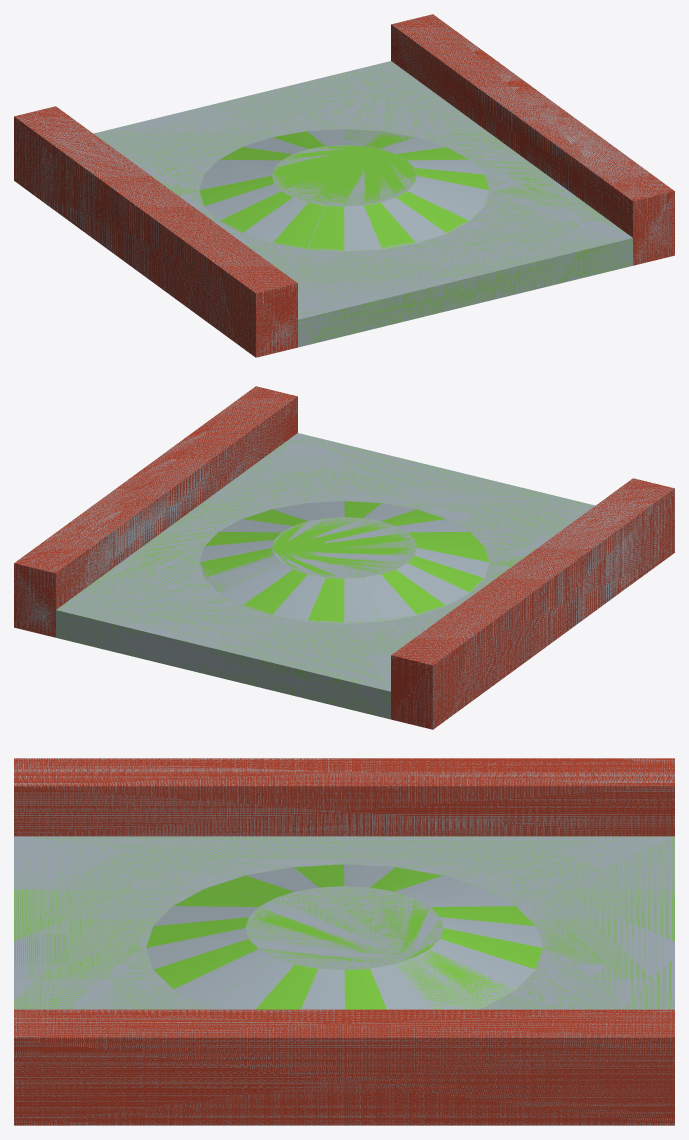
Rendered from Bump_walls_01.obj.
3 renders of one model, top to bottom at view 1: azimuth 30°, elevation 25°; view 2: azimuth 150°, elevation 25°; view 3: azimuth 270°, elevation 25°, orthographic. The views are drawn at different scales.
Visible parts, largest first — view 1: Mesh1 Bump_walls Model; view 2: Mesh1 Bump_walls Model; view 3: Mesh1 Bump_walls Model.
Part boxes in pixels (x1,y1,x2,y2): Mesh1 Bump_walls Model: (14,14,674,357); Mesh1 Bump_walls Model: (14,386,674,729); Mesh1 Bump_walls Model: (14,758,674,1125).
Bounding box in the file's own units: 3 × 0.44 × 3.
